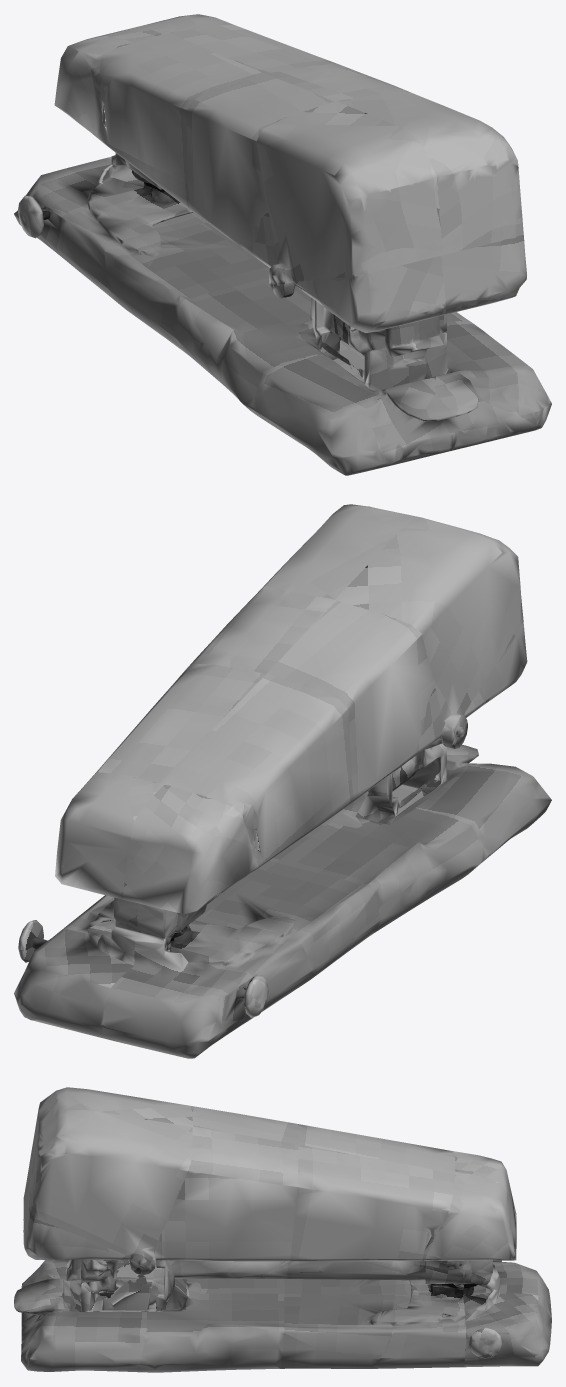
Rendered from m_stapler.glb.
3 renders of one model, top to bottom at view 1: azimuth 30°, elevation 25°; view 2: azimuth 150°, elevation 25°; view 3: azimuth 270°, elevation 25°, orthographic. The views are drawn at different scales.
Parts seen in each view (by area): view 1: tripo_node_bc9a9bfe-c346-4f9c-8c04-7fbfd061e2b4; view 2: tripo_node_bc9a9bfe-c346-4f9c-8c04-7fbfd061e2b4; view 3: tripo_node_bc9a9bfe-c346-4f9c-8c04-7fbfd061e2b4.
Part boxes in pixels (x1,y1,x2,y2): tripo_node_bc9a9bfe-c346-4f9c-8c04-7fbfd061e2b4: [14, 14, 551, 475]; tripo_node_bc9a9bfe-c346-4f9c-8c04-7fbfd061e2b4: [14, 504, 551, 1058]; tripo_node_bc9a9bfe-c346-4f9c-8c04-7fbfd061e2b4: [14, 1087, 551, 1372].
Size of the model in its own units: 0.3908 by 0.4674 by 1.
1 material, 1 textured.
